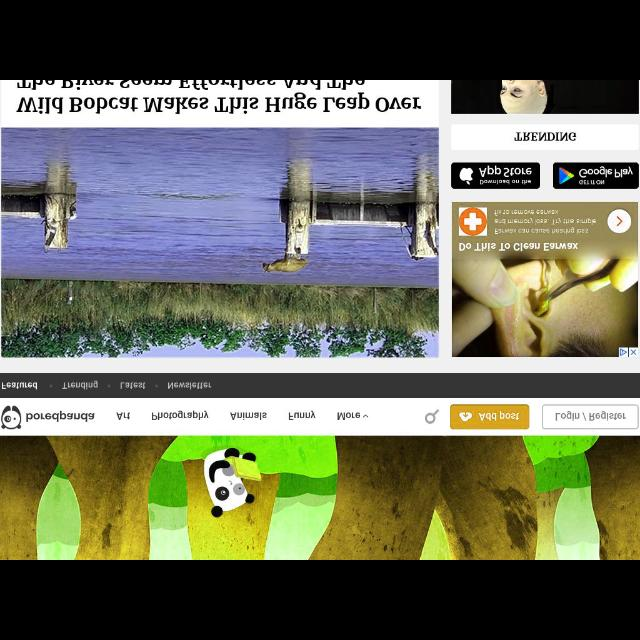icon: (426, 408, 438, 424), (460, 412, 472, 422), (364, 414, 368, 418), (49, 384, 53, 388), (154, 384, 158, 388), (108, 384, 110, 388)
iframe: (452, 202, 638, 356)
image: (1, 127, 438, 357), (1, 436, 639, 560), (452, 80, 638, 114), (1, 406, 21, 428), (459, 168, 473, 185), (560, 167, 574, 183)
input: (452, 164, 540, 188), (554, 164, 638, 188)
multitab: (1, 373, 639, 397)
spinner: (336, 410, 370, 420)
text: (16, 92, 422, 114), (26, 411, 94, 422), (556, 412, 626, 422), (479, 166, 531, 177), (152, 410, 208, 420), (515, 132, 577, 140), (479, 411, 519, 421), (168, 382, 212, 390), (230, 412, 268, 420), (2, 382, 38, 390), (62, 381, 98, 389), (289, 410, 315, 420), (480, 180, 530, 184), (338, 412, 360, 420), (120, 382, 146, 388), (116, 412, 130, 420)
textbutton: (542, 405, 640, 429), (450, 405, 530, 429)
toolbar: (1, 398, 640, 434)
